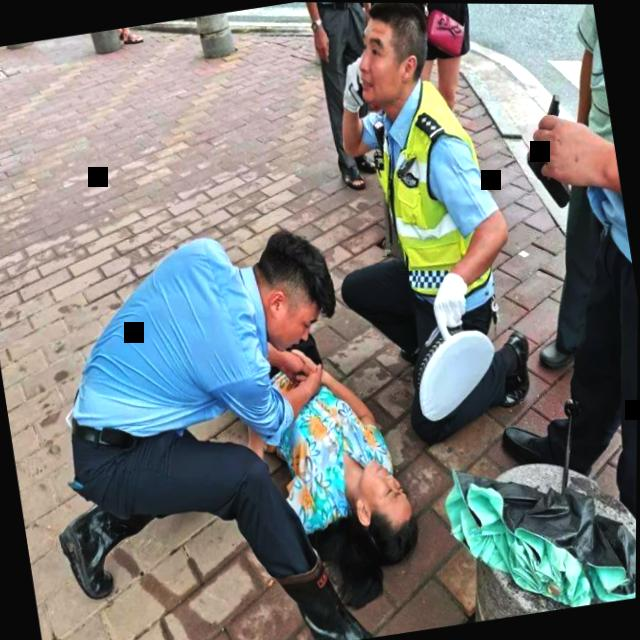Fall-Detected: (205, 301, 445, 623)
